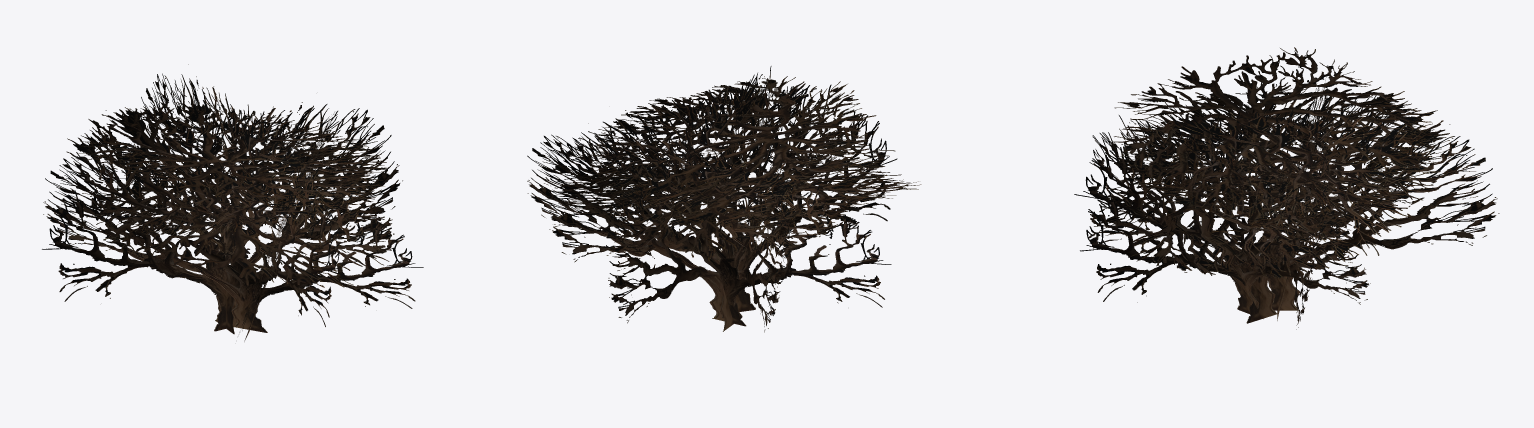
Rendered from treestumpburn.gltf.
3 renders of one model, left to right at view 1: azimuth 30°, elevation 25°; view 2: azimuth 150°, elevation 25°; view 3: azimuth 270°, elevation 25°, orthographic. The views are drawn at different scales.
Visible parts, largest first — view 1: scrubburnt_new; view 2: scrubburnt_new; view 3: scrubburnt_new.
Boxes of the visible parts, bbox=[...] form: scrubburnt_new: bbox=[42, 64, 423, 341]; scrubburnt_new: bbox=[527, 66, 921, 332]; scrubburnt_new: bbox=[1074, 47, 1499, 329].
Size of the model in its own units: 9 by 4.5 by 9.
2 materials, 2 textured.
